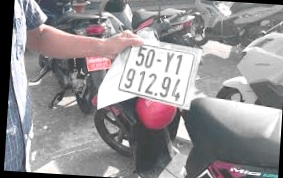Bien-so: (105, 44, 187, 102)
